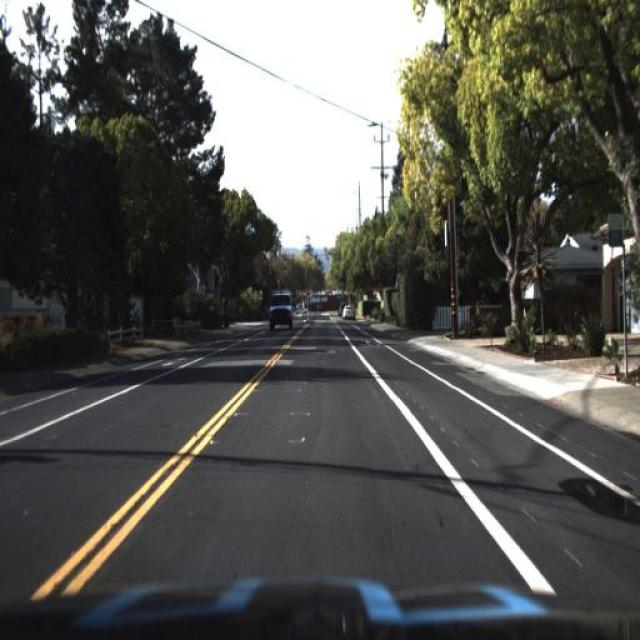car: (258, 291, 298, 344), (338, 301, 357, 323)
